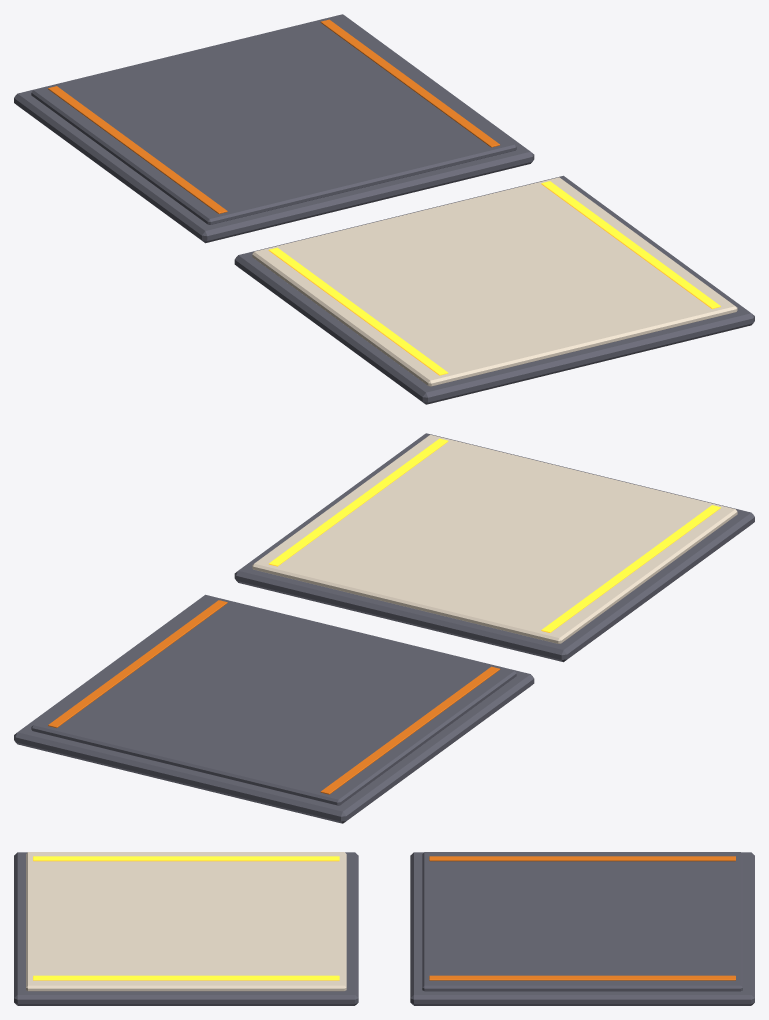
Rendered from asset.glb.
3 views of the same model, one above another, from view 1: azimuth 30°, elevation 25°; view 2: azimuth 150°, elevation 25°; view 3: azimuth 270°, elevation 25° (orthographic). The views are drawn at different scales.
Visible parts, largest first — view 1: floor_tile_smooth-structure_structure-gray, Chamfered tile face, Slate tile foundation, ceiling_tile_emissive-warm, floor_tile_accent-paint; view 2: floor_tile_smooth-structure_structure-gray, Chamfered tile face, Slate tile foundation, floor_tile_accent-paint, ceiling_tile_emissive-warm; view 3: floor_tile_smooth-structure_structure-gray, Chamfered tile face, Slate tile foundation, floor_tile_accent-paint, ceiling_tile_emissive-warm.
Part boxes in pixels (x1=…): floor_tile_smooth-structure_structure-gray: x1=14, y1=14, x2=534, y2=243; Chamfered tile face: x1=252, y1=177, x2=737, y2=386; Slate tile foundation: x1=234, y1=175, x2=754, y2=404; ceiling_tile_emissive-warm: x1=268, y1=181, x2=720, y2=375; floor_tile_accent-paint: x1=48, y1=19, x2=499, y2=213; floor_tile_smooth-structure_structure-gray: x1=14, y1=594, x2=534, y2=823; Chamfered tile face: x1=252, y1=434, x2=737, y2=643; Slate tile foundation: x1=234, y1=433, x2=754, y2=662; floor_tile_accent-paint: x1=48, y1=600, x2=500, y2=794; ceiling_tile_emissive-warm: x1=269, y1=438, x2=720, y2=632; floor_tile_smooth-structure_structure-gray: x1=410, y1=852, x2=754, y2=1005; Chamfered tile face: x1=26, y1=852, x2=346, y2=991; Slate tile foundation: x1=14, y1=852, x2=358, y2=1005; floor_tile_accent-paint: x1=429, y1=856, x2=735, y2=980; ceiling_tile_emissive-warm: x1=33, y1=856, x2=339, y2=980.
Size of the model in its own units: 2 by 0.107 by 4.3.
